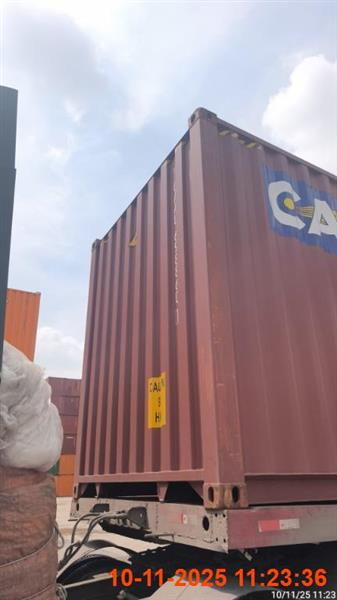broken: (69, 108, 335, 555), (0, 338, 65, 599)
